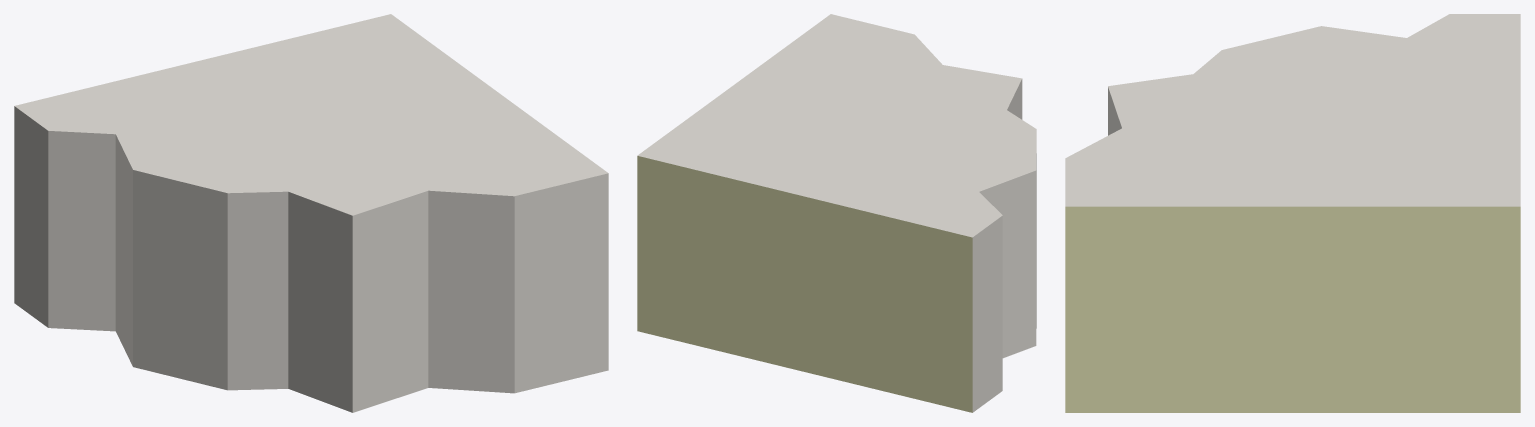
Rendered from Cracked_Curve_Outer_3x3_1_Mid.glb.
3 renders of one model, left to right at view 1: azimuth 30°, elevation 25°; view 2: azimuth 150°, elevation 25°; view 3: azimuth 270°, elevation 25°, orthographic. The views are drawn at different scales.
Visible parts, largest first — view 1: Cracked_Curve_Outer_3x3_1_Mid; view 2: Cracked_Curve_Outer_3x3_1_Mid; view 3: Cracked_Curve_Outer_3x3_1_Mid.
Part boxes in pixels (x1=…): Cracked_Curve_Outer_3x3_1_Mid: x1=14, y1=14, x2=608, y2=412; Cracked_Curve_Outer_3x3_1_Mid: x1=637, y1=14, x2=1036, y2=412; Cracked_Curve_Outer_3x3_1_Mid: x1=1065, y1=14, x2=1520, y2=412.
Bounding box in the file's own units: 200 × 100 × 200.
